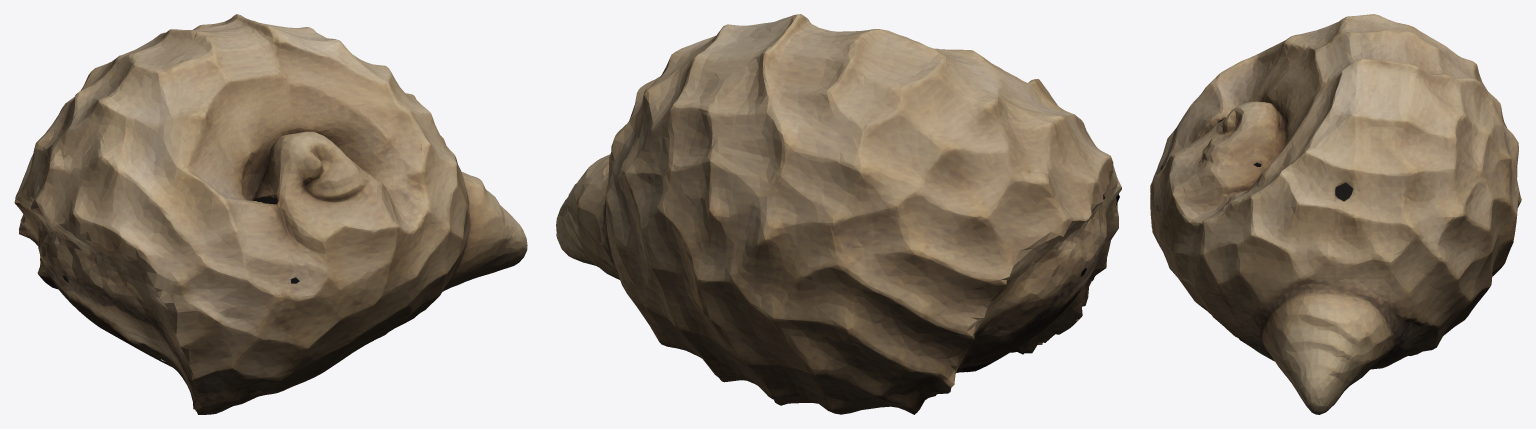
The picture shows the model from 3 angles, left to right: view 1: azimuth 30°, elevation 25°; view 2: azimuth 150°, elevation 25°; view 3: azimuth 270°, elevation 25°; orthographic projection. The views are drawn at different scales.
Parts seen in each view (by area): view 1: world; view 2: world; view 3: world.
Boxes of the visible parts, <box> form: world: <box>14,14,527,414</box>; world: <box>556,14,1121,414</box>; world: <box>1150,14,1521,414</box>.
Size of the model in its own units: 0.8486 by 0.5338 by 0.6321.
1 material, 1 textured.
